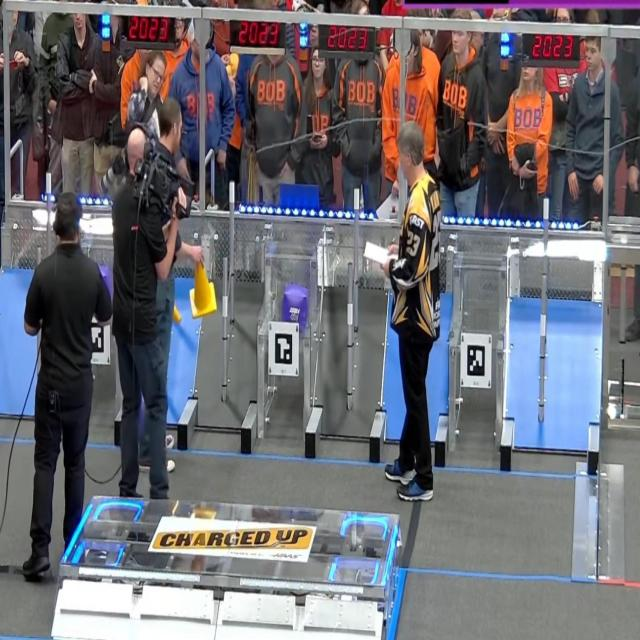frc_cone: (189, 252, 216, 319), (173, 299, 183, 328)
frc_cube: (283, 284, 307, 325), (96, 265, 112, 304)
